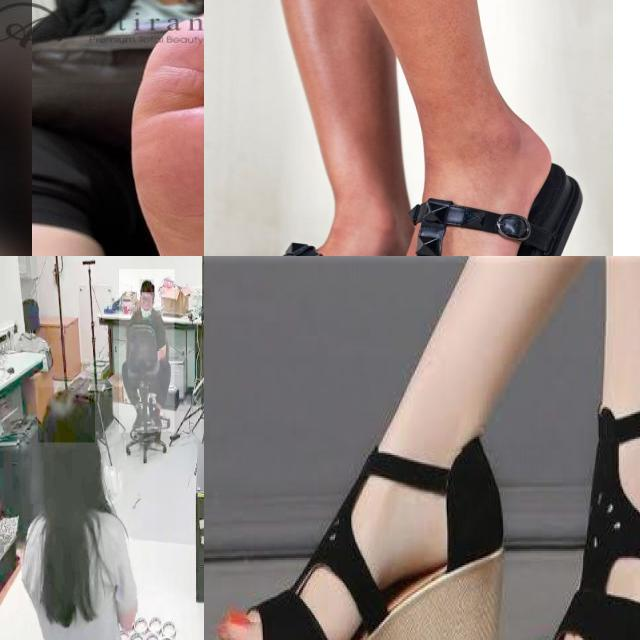Barefoots: (103, 0, 204, 256)
Sandals: (206, 406, 519, 640), (532, 327, 640, 640), (352, 138, 584, 256)
face_nomask: (139, 293, 153, 311)
head_nohelmet: (38, 388, 96, 443), (140, 279, 154, 293)
person: (14, 380, 155, 640), (119, 269, 175, 433)
shoes: (128, 403, 146, 433), (150, 404, 164, 433)
